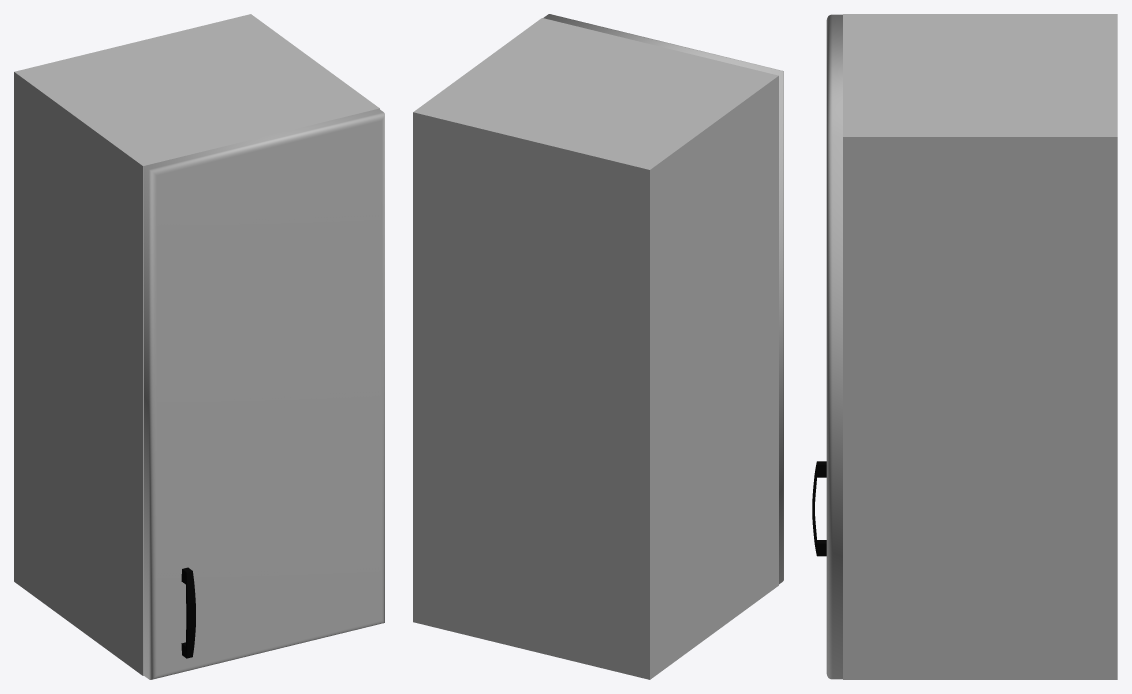
The picture shows the model from 3 angles, left to right: view 1: azimuth 30°, elevation 25°; view 2: azimuth 150°, elevation 25°; view 3: azimuth 270°, elevation 25°; orthographic projection. The views are drawn at different scales.
Parts seen in each view (by area): view 1: Box011, Box001, Obj3d66-503491-2-344; view 2: Box001, Box011; view 3: Box001, Box011, Obj3d66-503491-2-344.
Boxes of the visible parts, x1,y1,x2,y2 form: Box011: (144,108,384,679); Box001: (14,14,379,675); Obj3d66-503491-2-344: (181,567,195,658); Box001: (413,18,778,679); Box011: (543,14,783,584); Box001: (843,14,1117,679); Box011: (826,14,842,679); Obj3d66-503491-2-344: (812,461,826,556).
Bounding box in the file's own units: 0.35 × 0.72 × 0.3671.
Materials: 2 (1 with a texture image).
